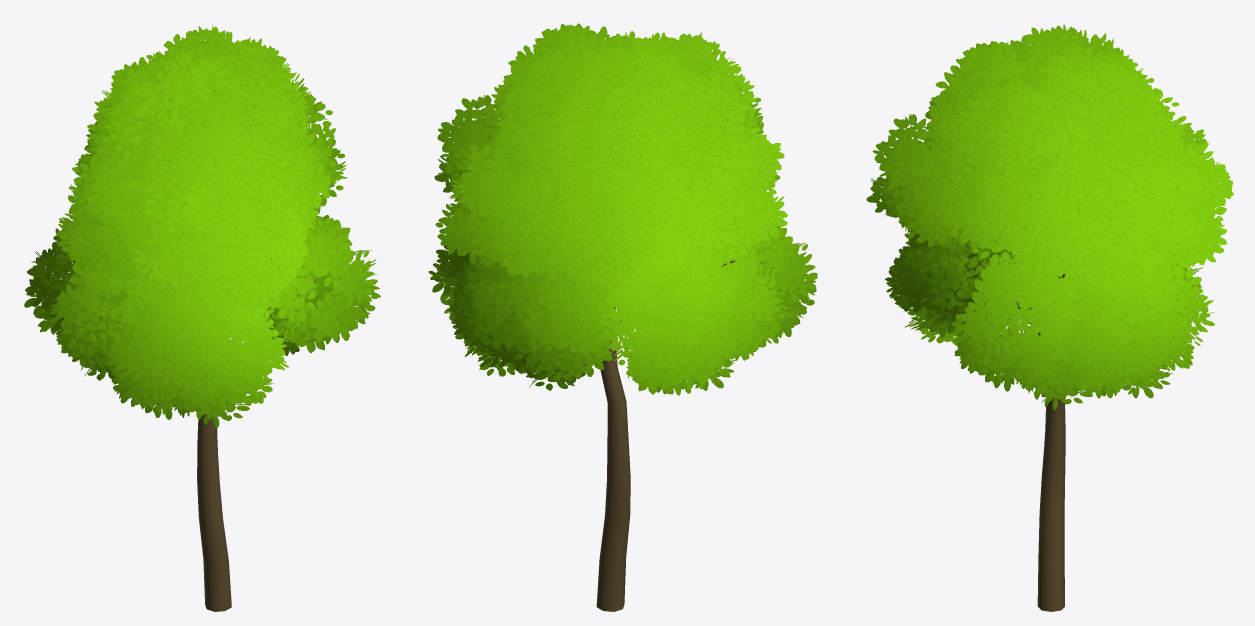
Rendered from approved-tree-7.obj.
3 views of the same model, side by side, from view 1: azimuth 30°, elevation 25°; view 2: azimuth 150°, elevation 25°; view 3: azimuth 270°, elevation 25° (orthographic). The views are drawn at different scales.
Parts seen in each view (by area): view 1: approved-tree-7; view 2: approved-tree-7; view 3: approved-tree-7.
Part boxes in pixels (left/top/right/bottom): approved-tree-7: left=24, top=24, right=380, bottom=611; approved-tree-7: left=428, top=23, right=817, bottom=611; approved-tree-7: left=866, top=24, right=1233, bottom=611.
Bounding box in the file's own units: 1.14 × 1.91 × 1.17.
2 materials, 2 textured.
